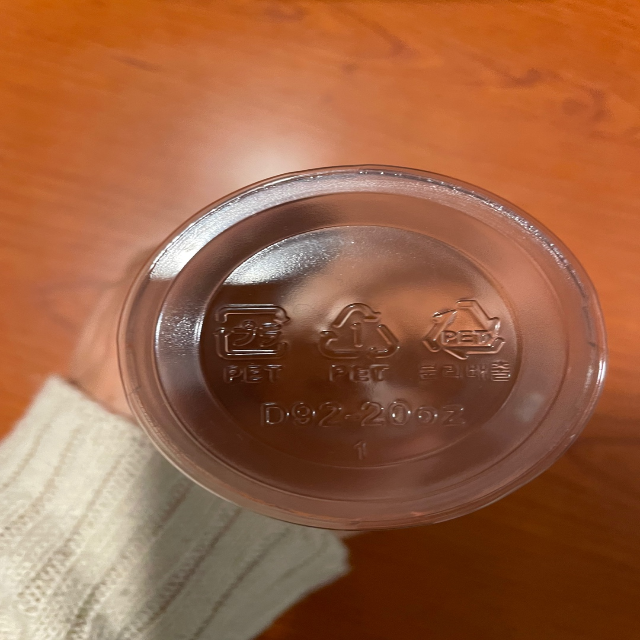pet: (417, 287, 525, 386), (315, 294, 405, 390), (212, 297, 296, 386)
